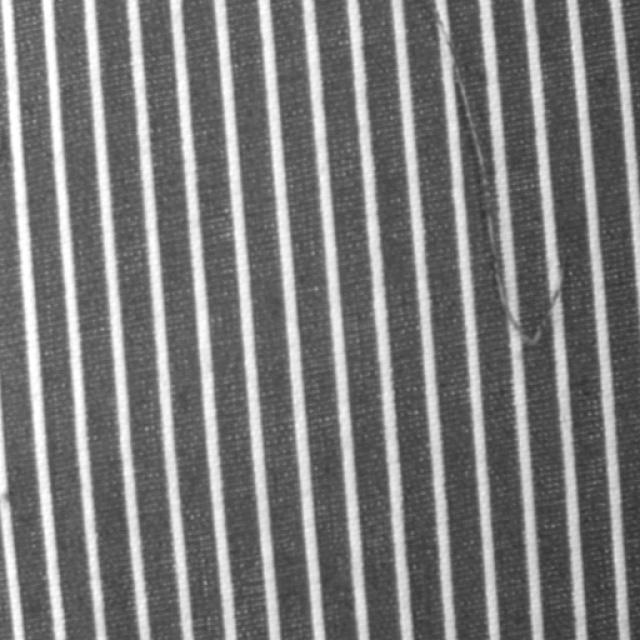Foreign-Body-Defect: (436, 4, 562, 351)
